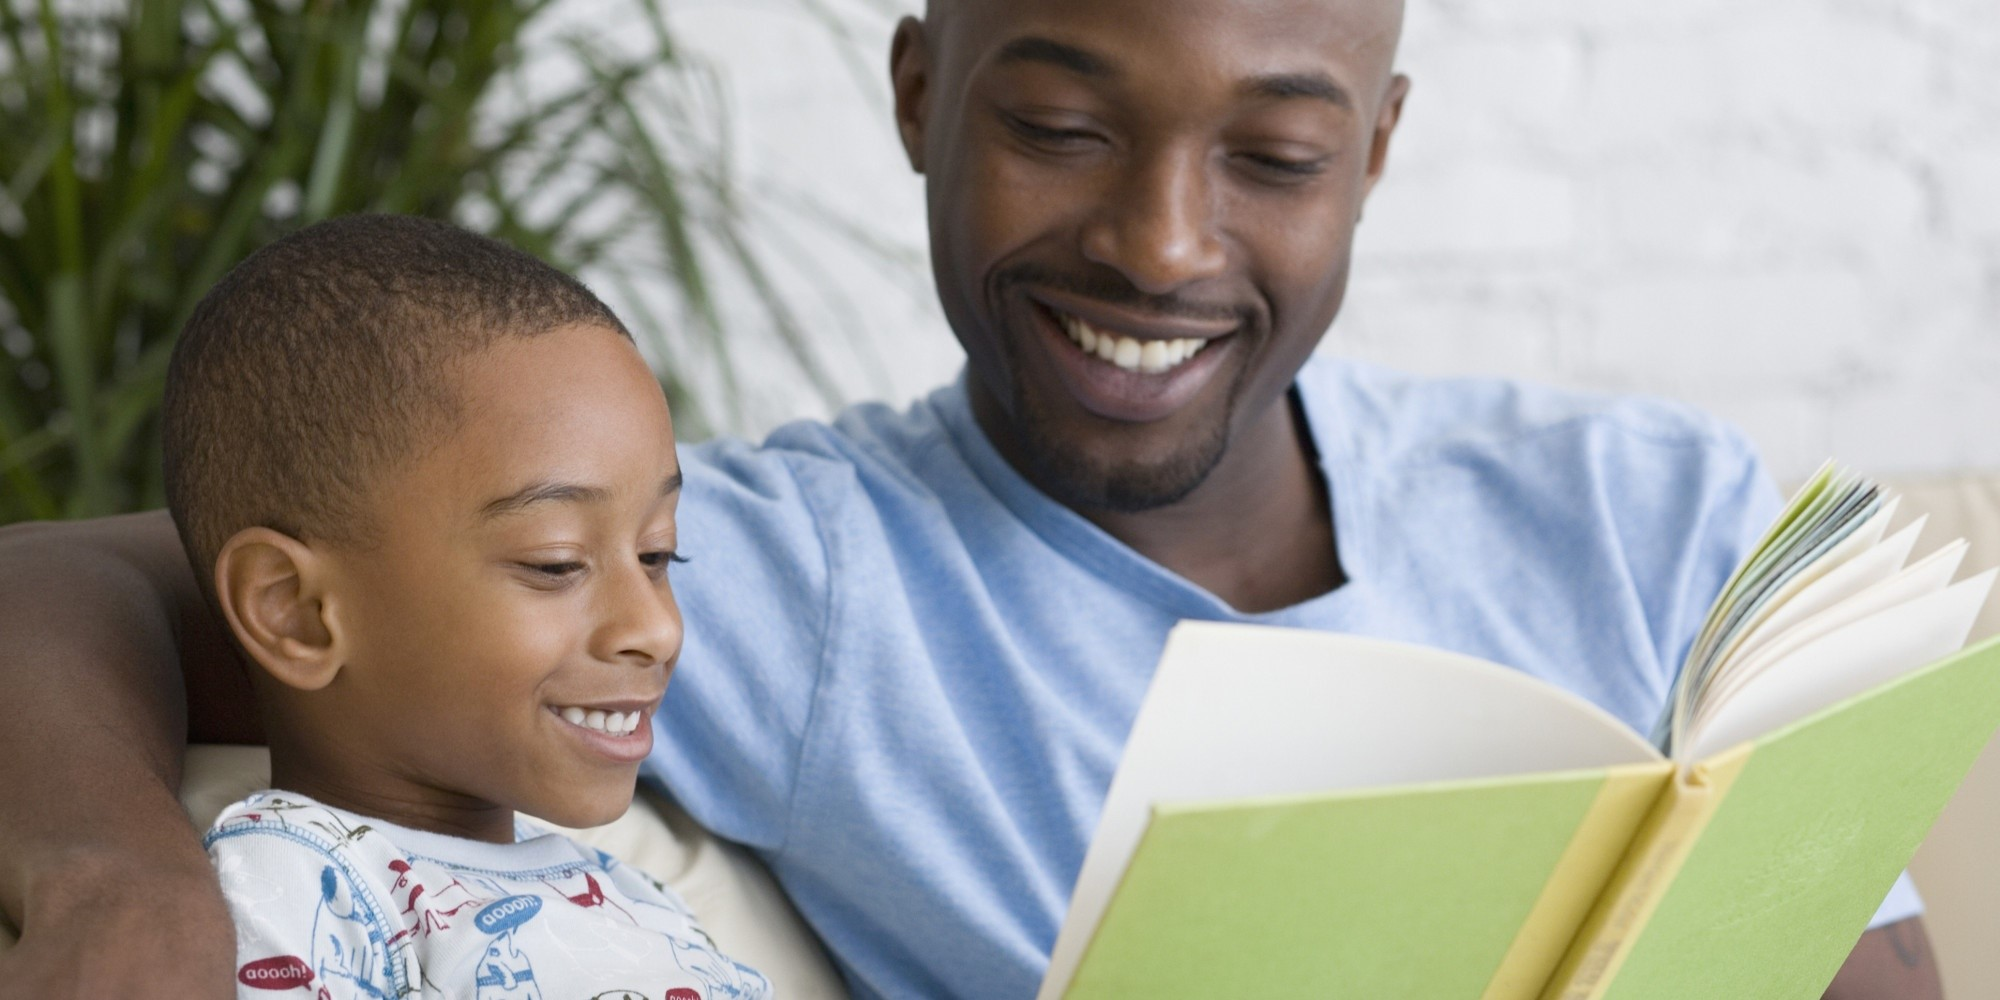face_no_mask: (160, 252, 686, 836), (881, 6, 1416, 510)
